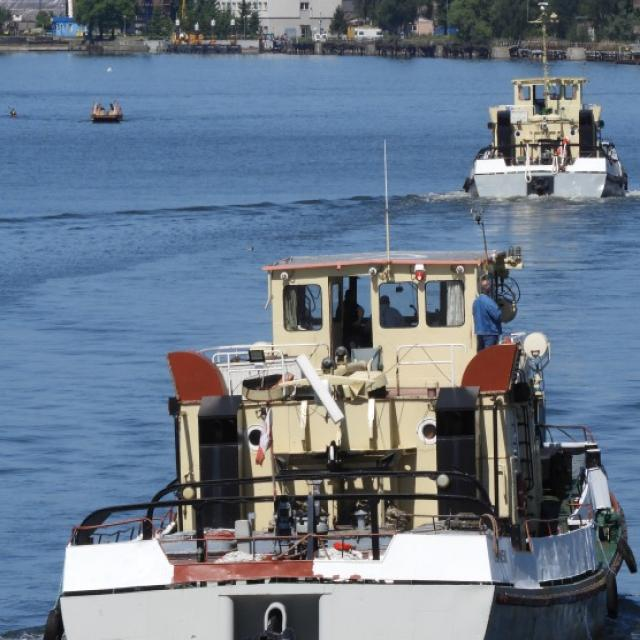tugboat: (35, 245, 640, 640), (460, 71, 633, 211)
